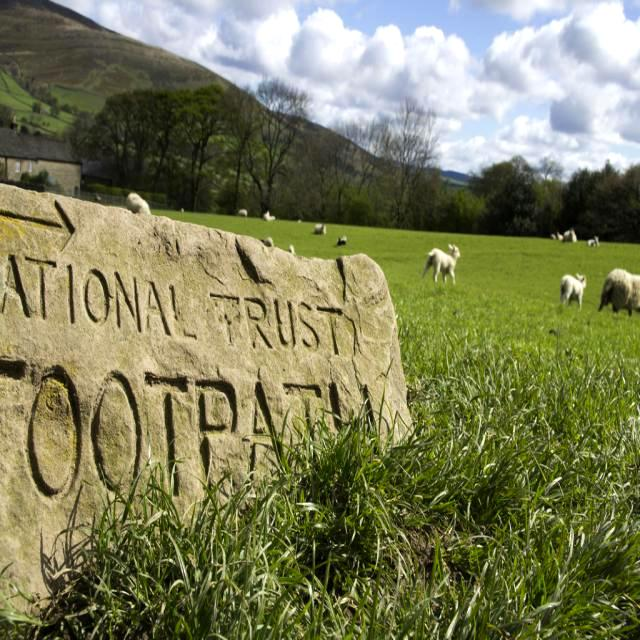sheep: (597, 268, 639, 312), (422, 245, 458, 281)
